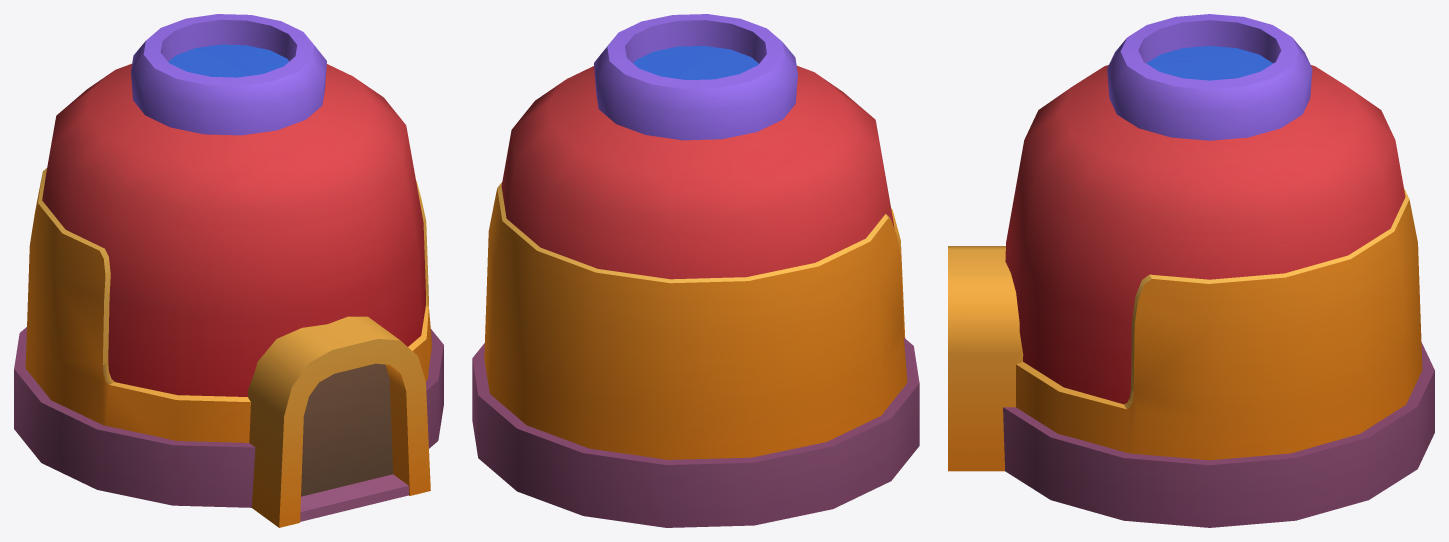
The model's file is House01.glb.
3 renders of one model, left to right at view 1: azimuth 30°, elevation 25°; view 2: azimuth 150°, elevation 25°; view 3: azimuth 270°, elevation 25°, orthographic. The views are drawn at different scales.
Visible parts, largest first — view 1: House01; view 2: House01; view 3: House01.
Boxes of the visible parts, <box> form: House01: <box>14,14,443,527</box>; House01: <box>472,14,919,527</box>; House01: <box>948,14,1434,527</box>.
Size of what is drawn, in the model's own units: 5.82 by 5.46 by 6.29.
1 material, 1 textured.
